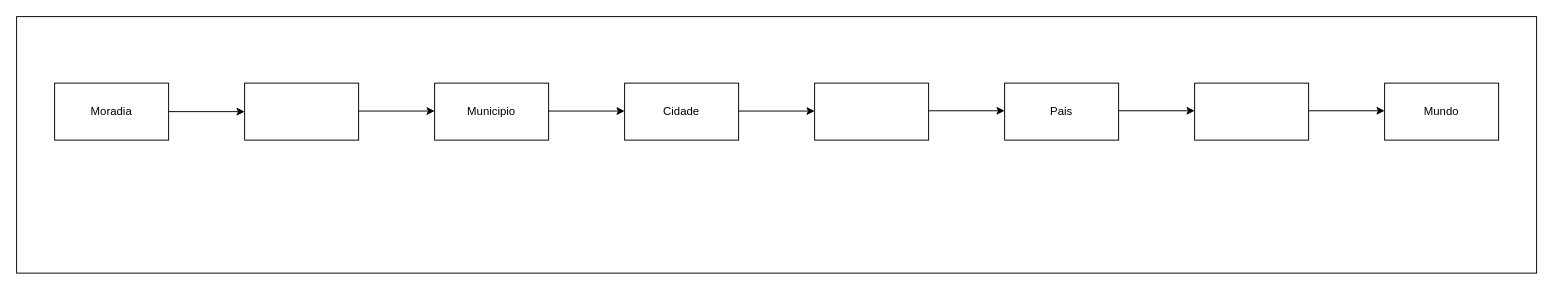
Some shapes in this 1553 by 290 pixel diagram are drawn without their labels. Here are the shapes that lost their labels. From the top down, the box of each, then its label:
(244, 82, 359, 140): Bairro
(814, 82, 929, 140): Estado
(1194, 82, 1309, 140): Continente
